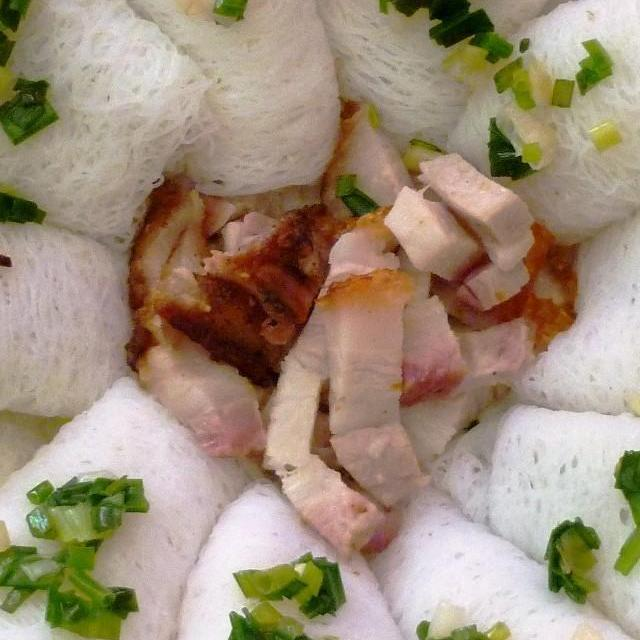banh hoi: (0, 362, 273, 640), (0, 123, 169, 537), (381, 378, 640, 640), (441, 137, 640, 461), (157, 461, 512, 640), (42, 0, 350, 202), (0, 0, 226, 261), (297, 0, 617, 182), (429, 0, 640, 269), (334, 467, 640, 640), (0, 137, 152, 421)
banh hoi heo quay: (0, 0, 640, 640)
thit heo quay: (116, 88, 586, 566)
